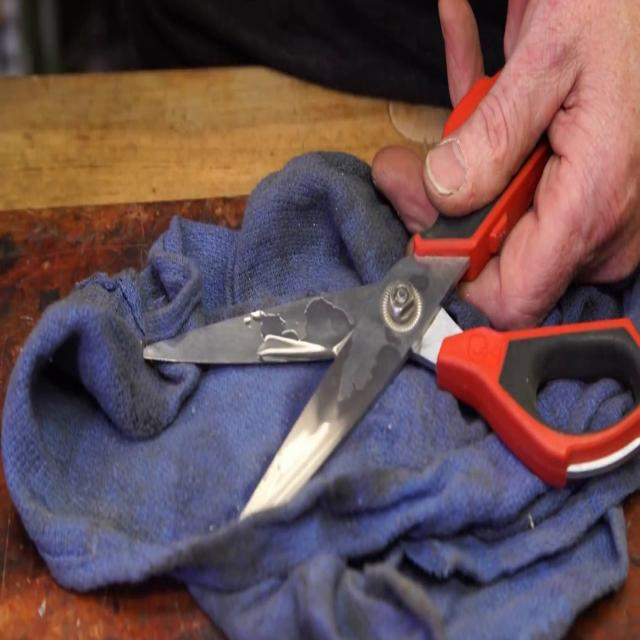scissor: (143, 67, 640, 523)
